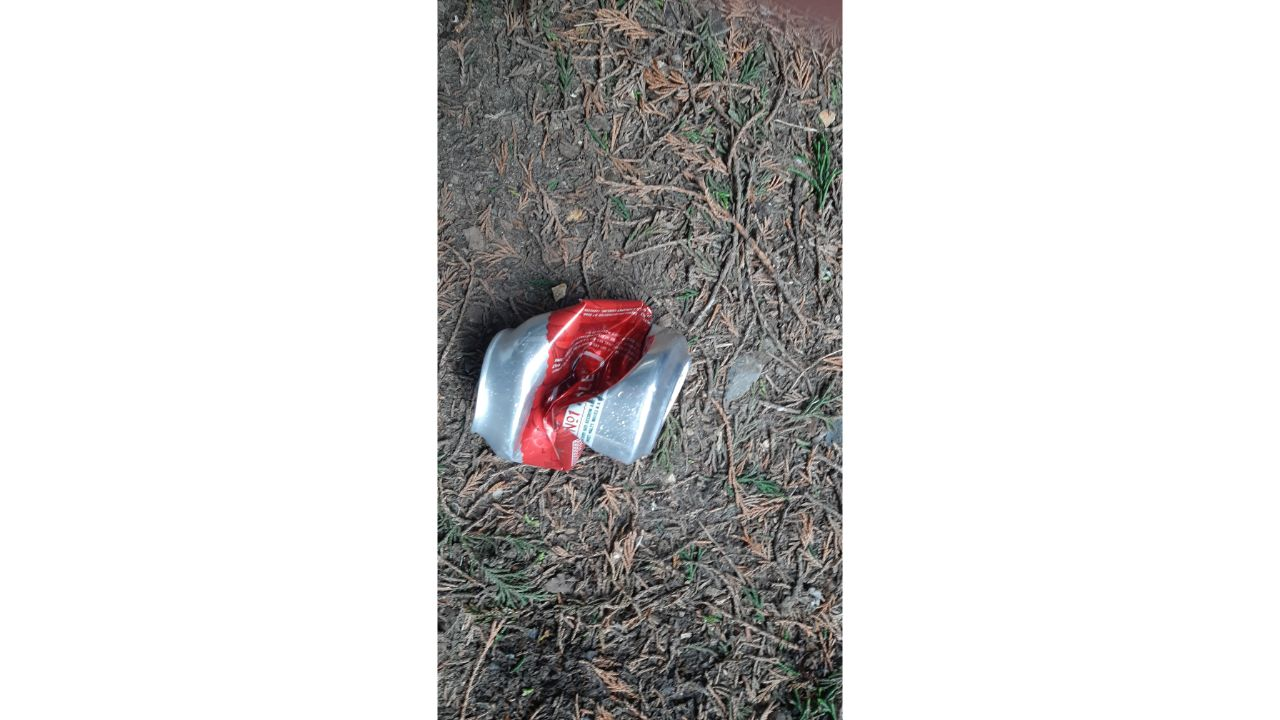Can: (467, 297, 691, 469)
